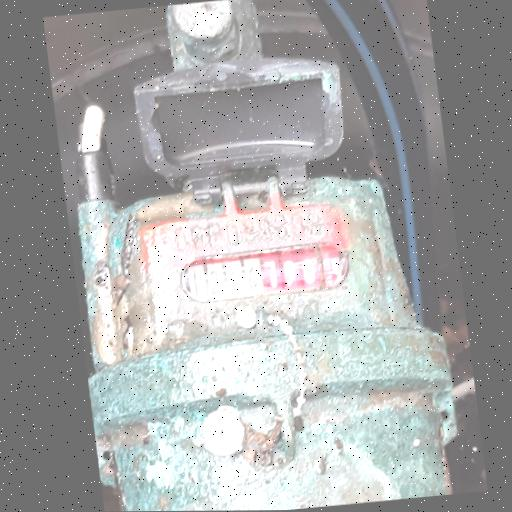1: (186, 265, 208, 303), (225, 260, 246, 299)
2: (206, 262, 227, 300)
5: (321, 248, 344, 287)
6: (244, 258, 265, 297)
7: (260, 254, 282, 293)
8: (300, 251, 321, 289)
9: (280, 253, 303, 291)
border_water_meter_number: (175, 239, 352, 306)
